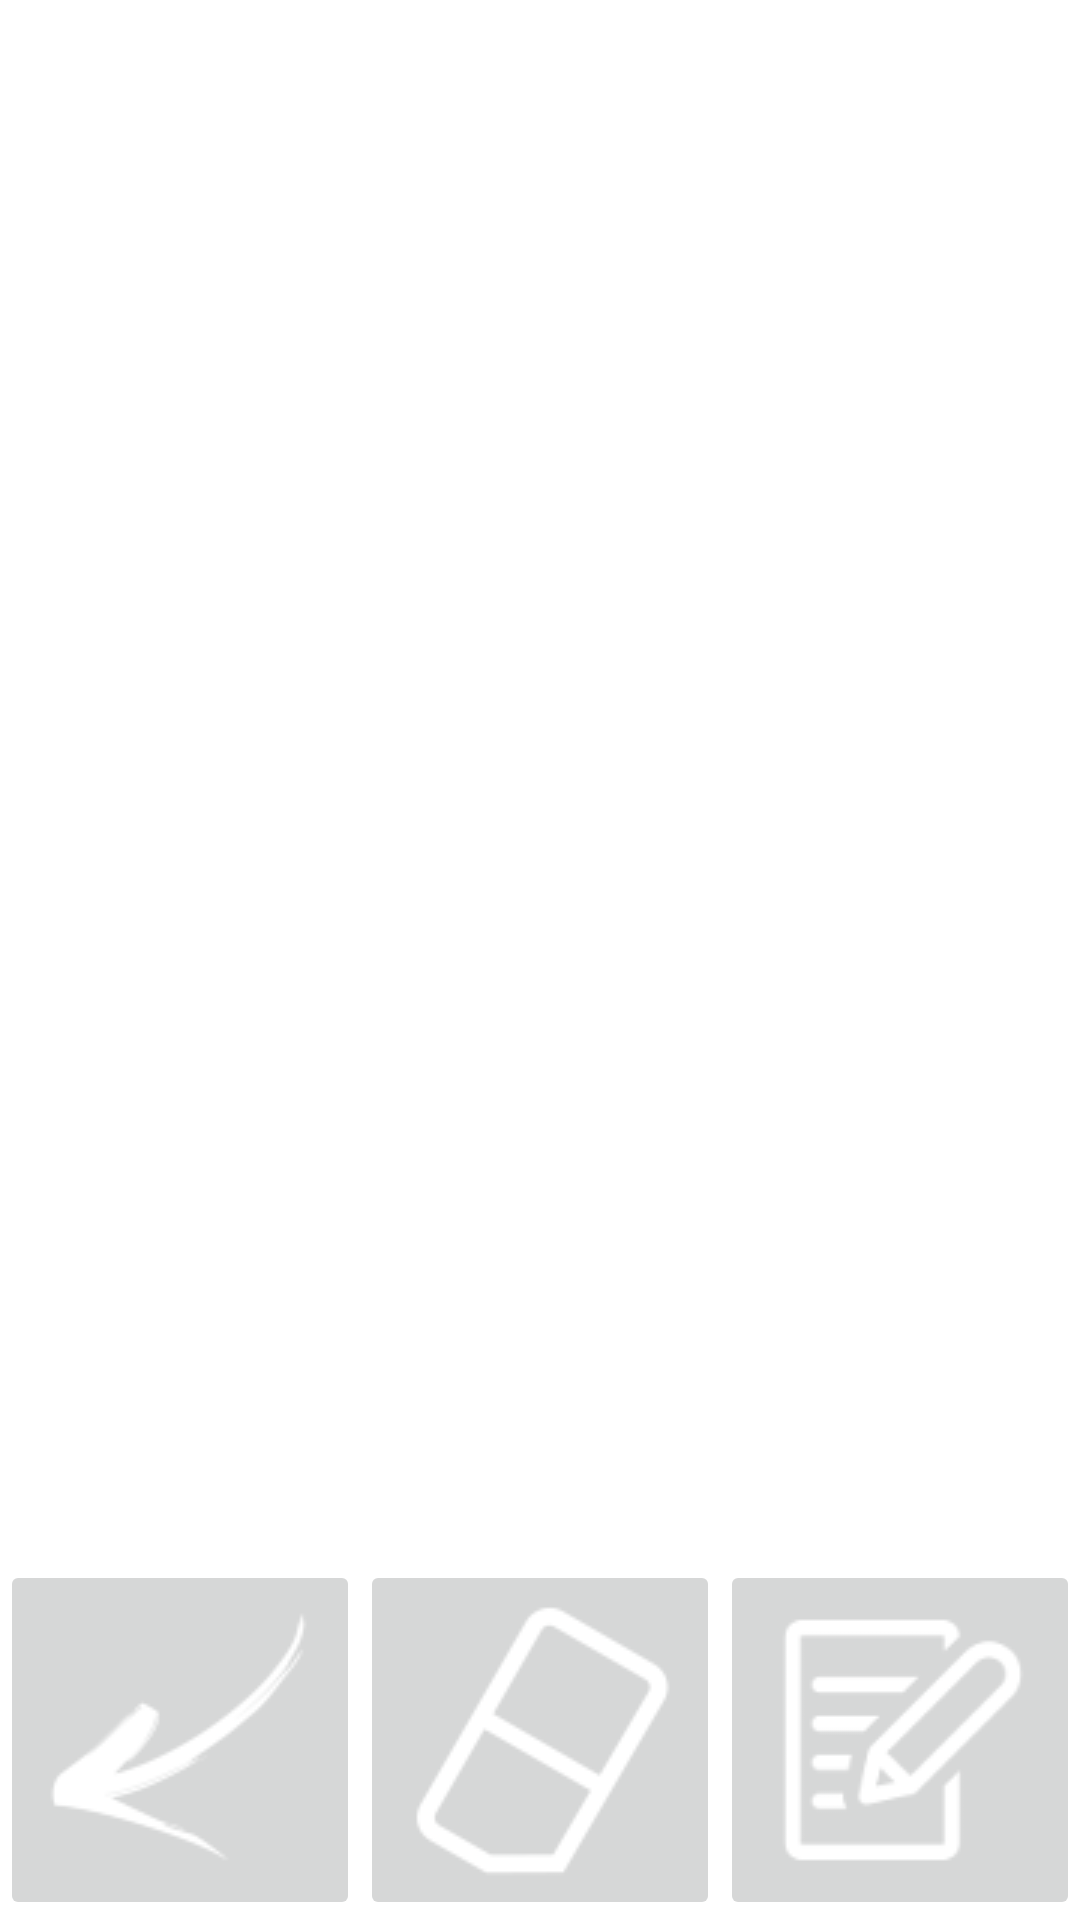

Named icons in this screenshot (1080px×1920px) and their centers, (x=x, y=y):
erase: (x=540, y=1740)
prev arr: (x=180, y=1740)
